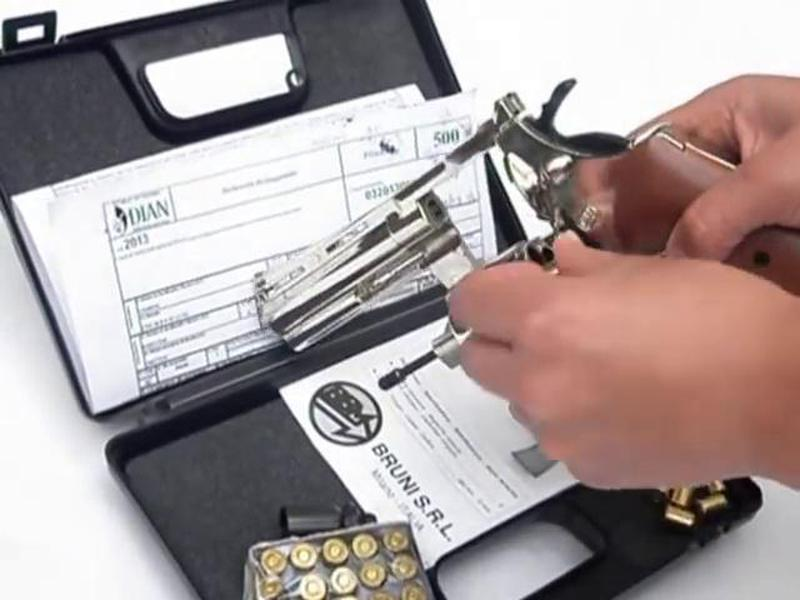Revolver: (210, 72, 800, 327)
